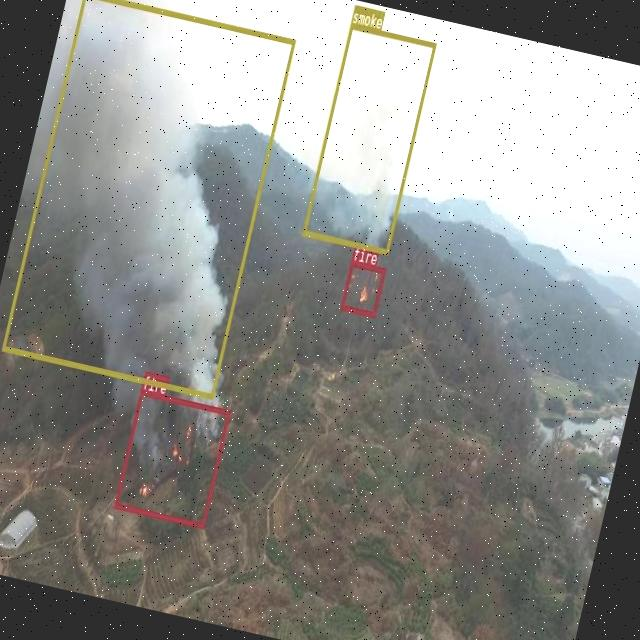fire: (113, 388, 230, 527), (339, 258, 386, 316)
smoke: (1, 0, 295, 398), (302, 23, 436, 253)
